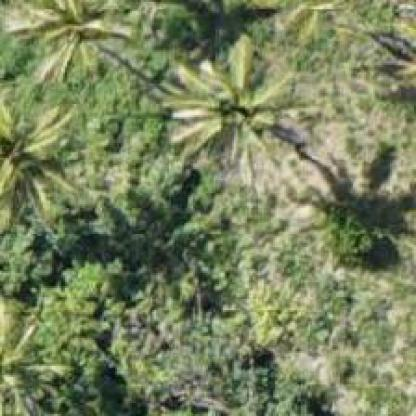coconut tree: (159, 35, 293, 164), (1, 99, 80, 233), (6, 0, 129, 81)
